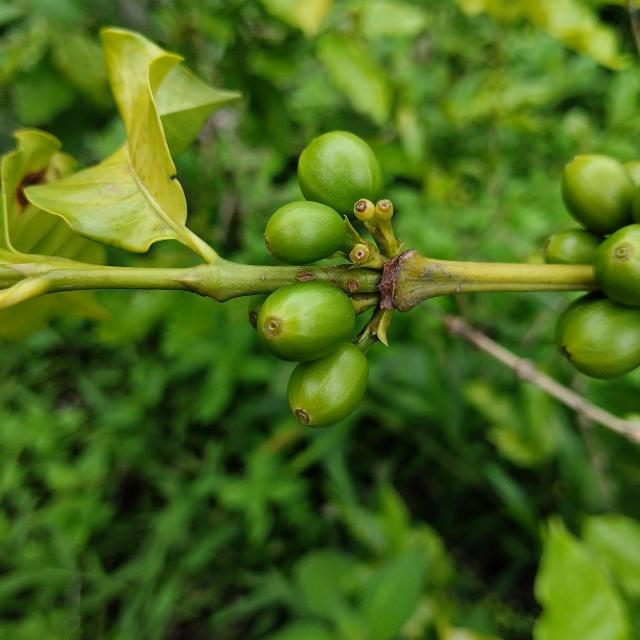green: (257, 281, 355, 362), (298, 131, 383, 220), (555, 292, 640, 380), (287, 342, 369, 428), (563, 154, 637, 234), (264, 200, 347, 265), (594, 224, 640, 306), (544, 228, 606, 264), (248, 295, 268, 330)
